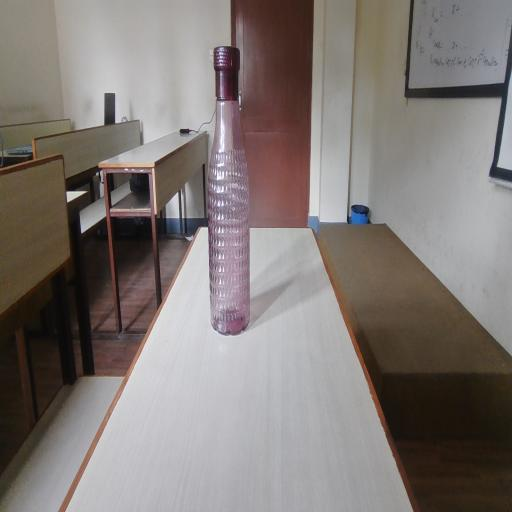Bottle: (215, 41, 269, 361)
